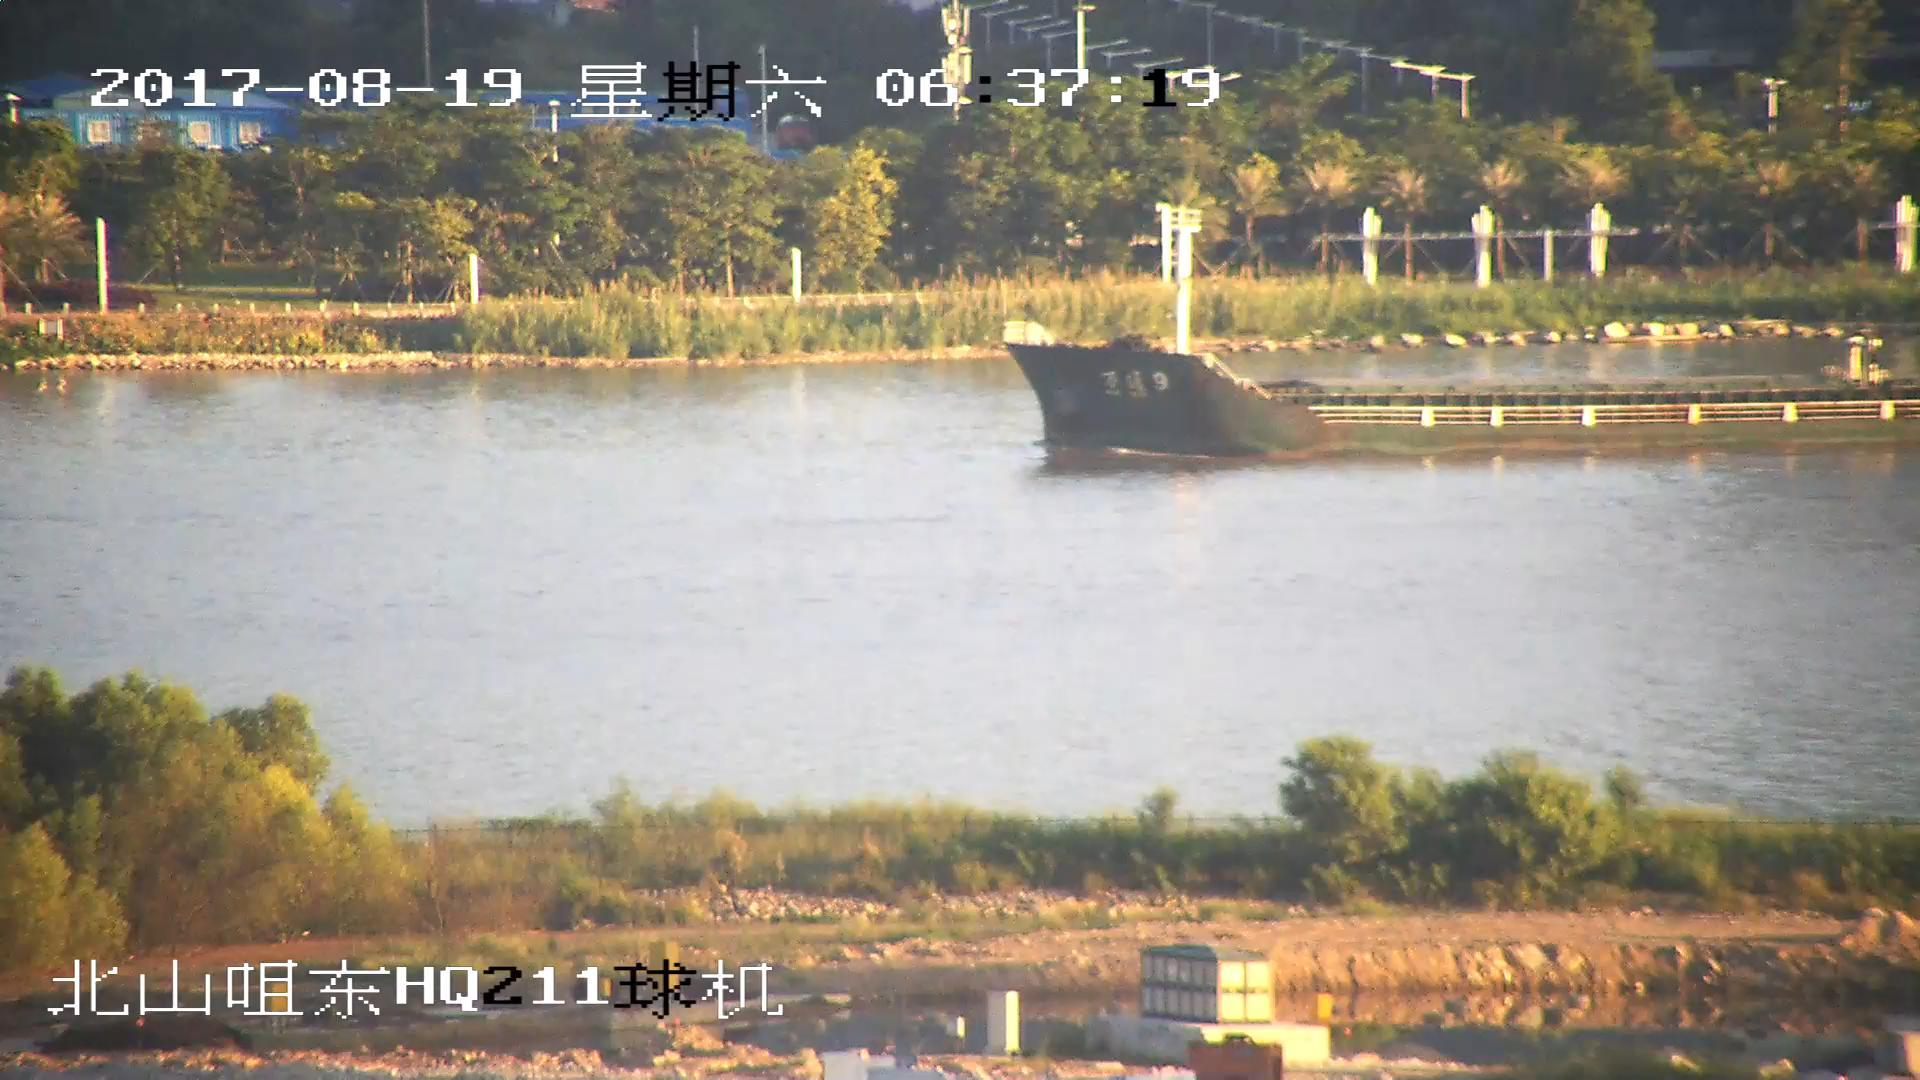Ship: (997, 223, 1920, 458)
